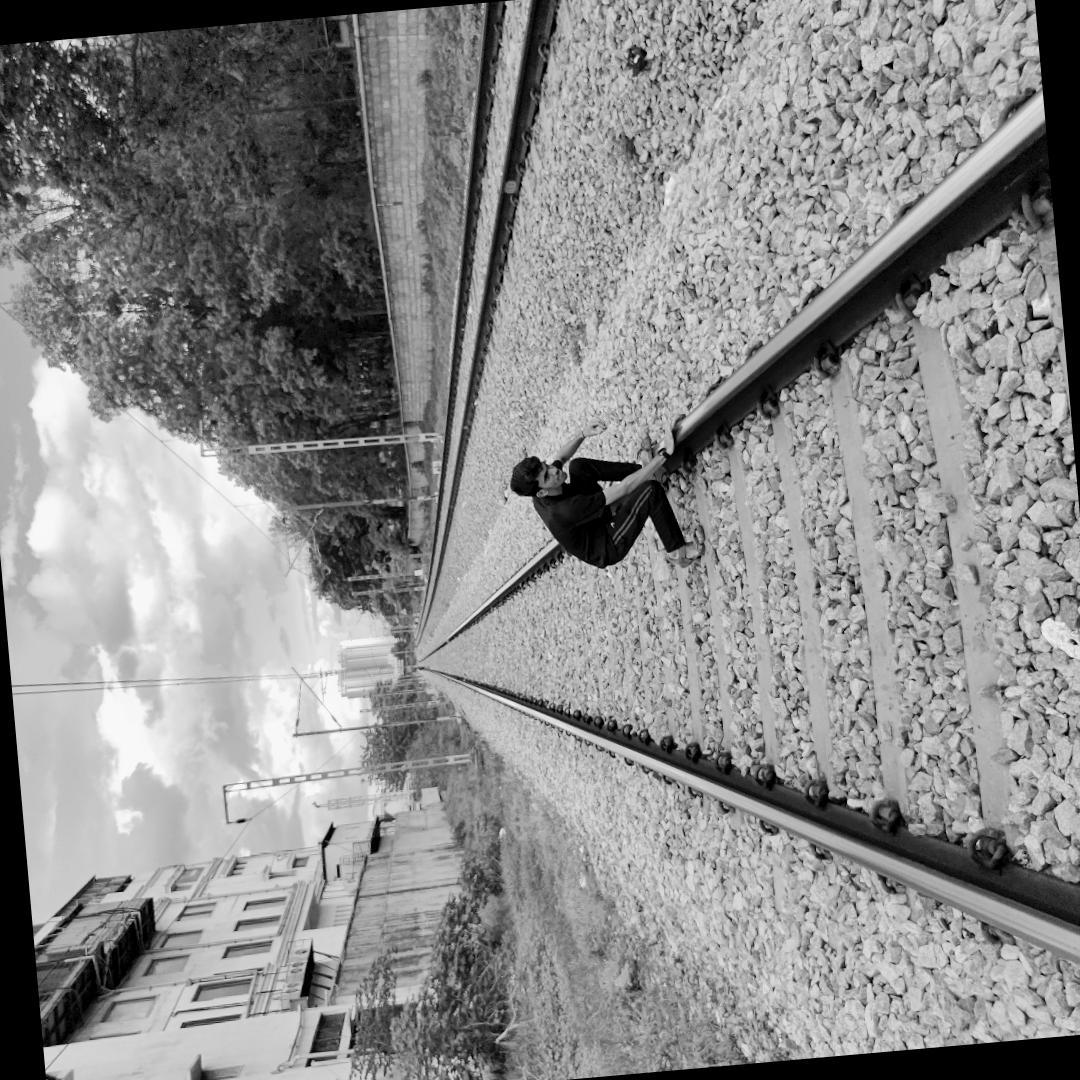sitting: (502, 400, 713, 590)
